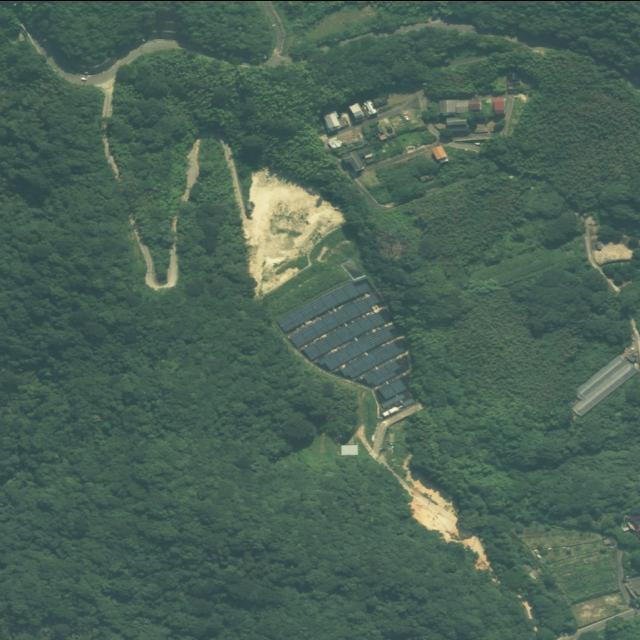landslide: (366, 403, 491, 569), (224, 144, 344, 294), (593, 241, 634, 264)
